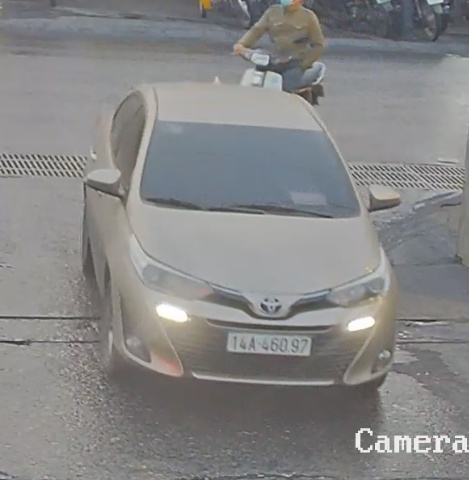vehicle plate: (224, 328, 317, 355)
